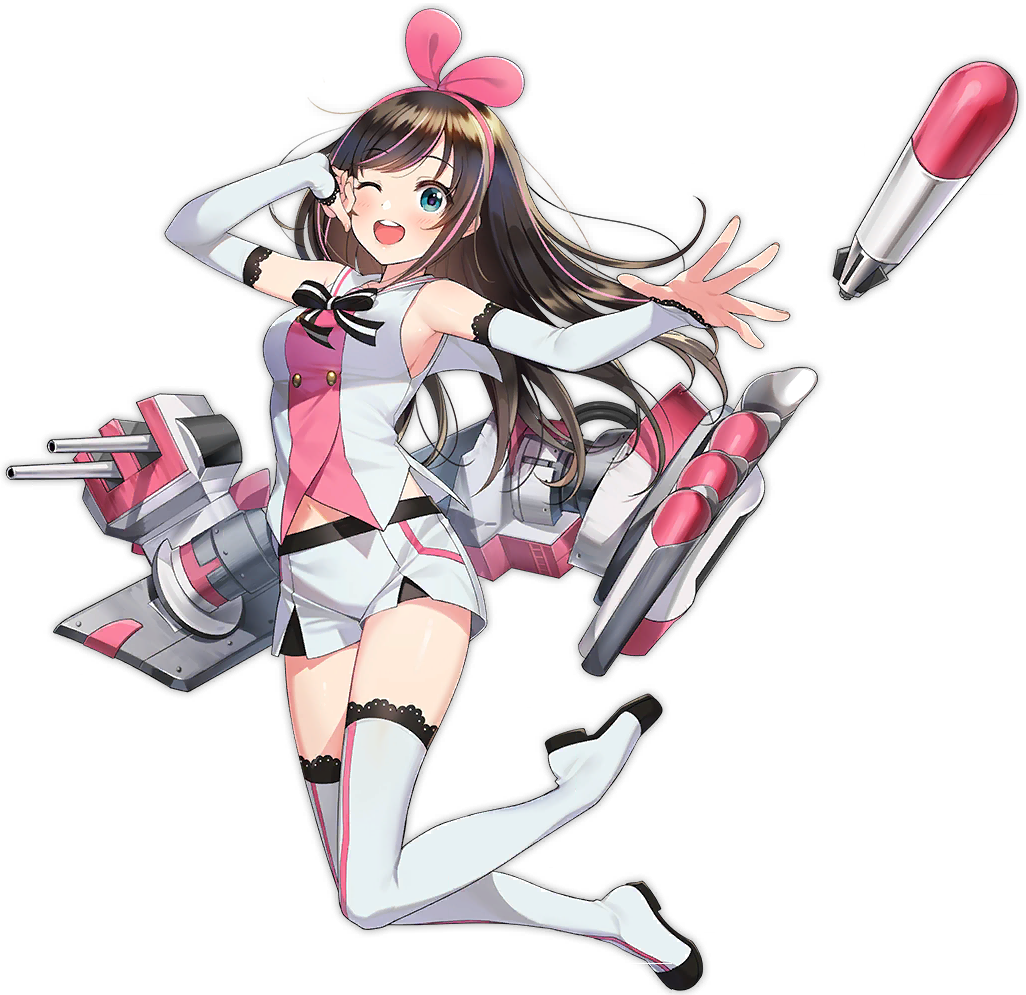person: (130, 68, 712, 955)
